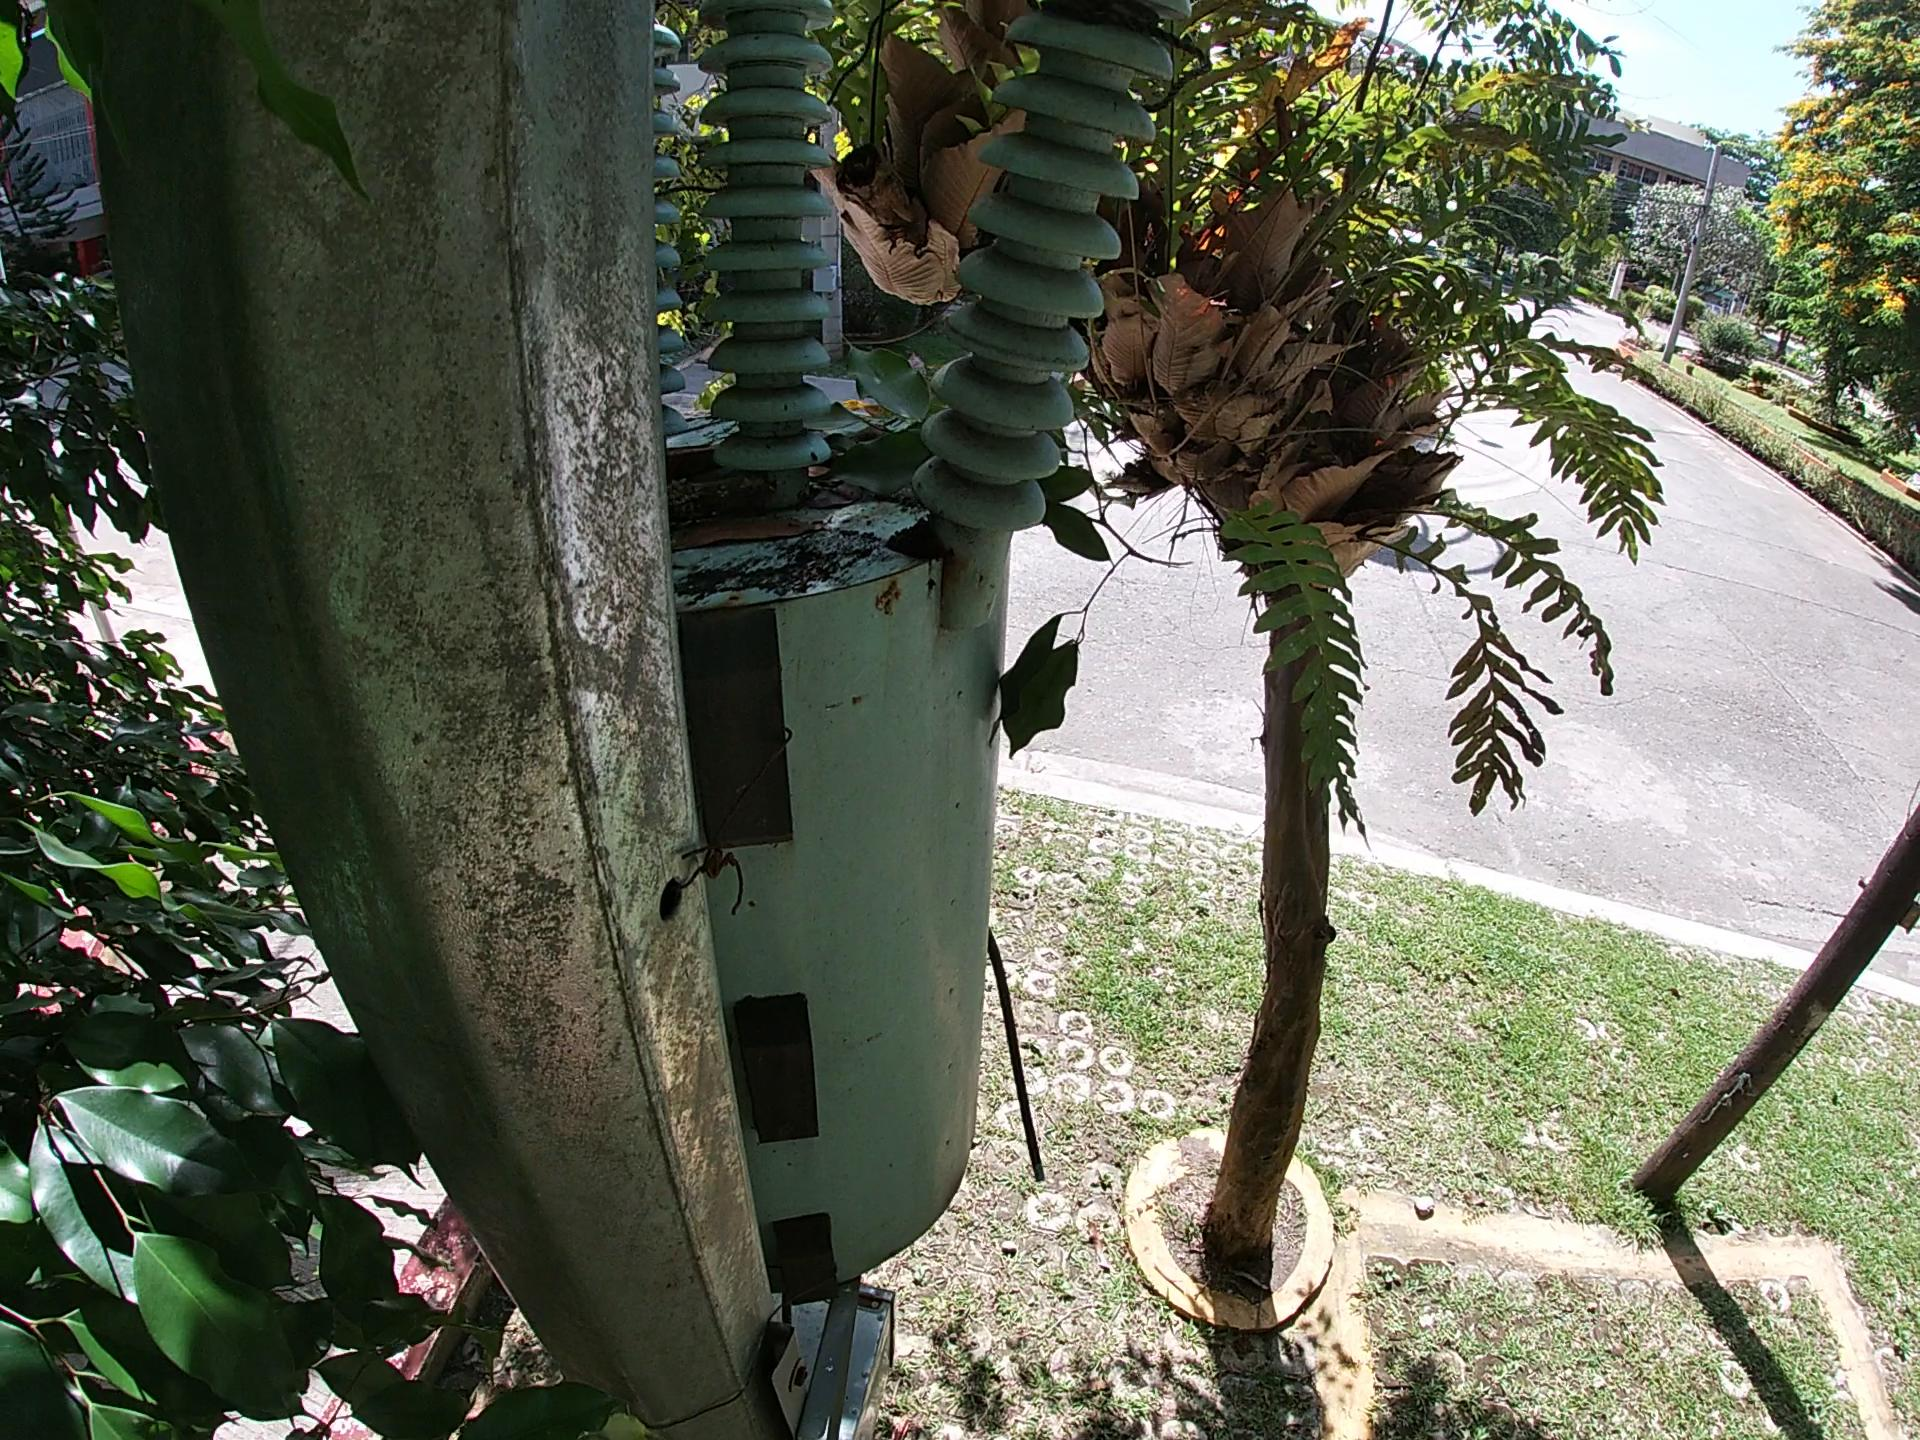branch with leaves: (999, 363, 1181, 815)
leaf: (835, 325, 955, 498), (671, 507, 835, 551)
mahogany fruit: (652, 442, 732, 467)
tree branch: (661, 476, 794, 493)
